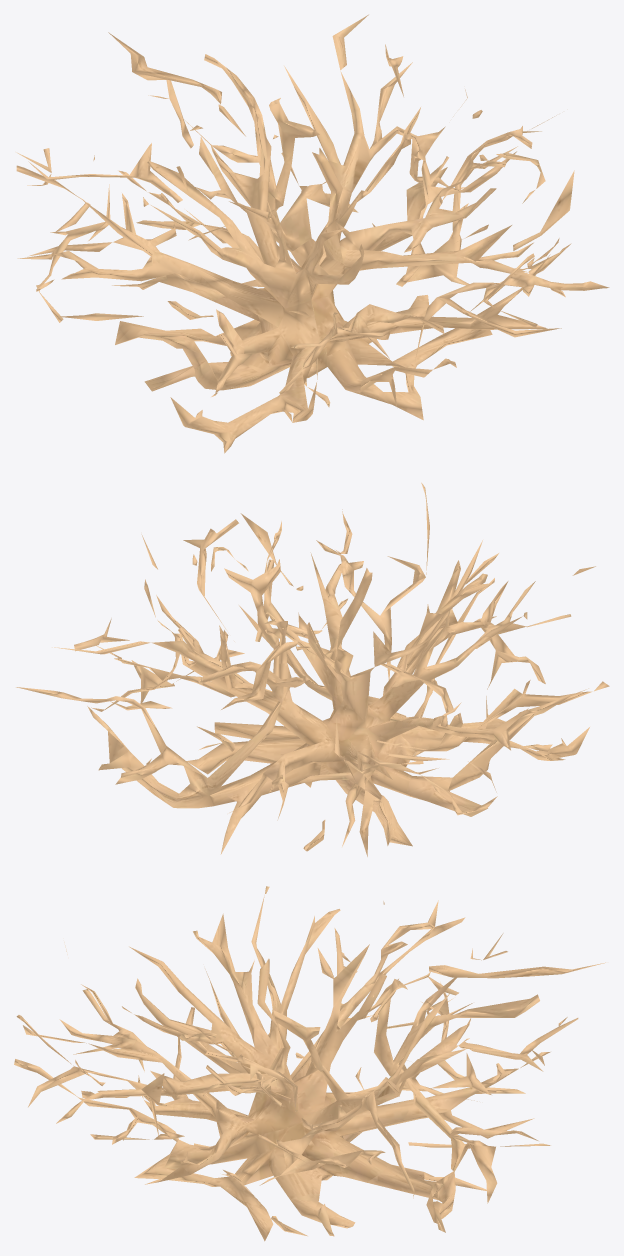
File: dead_scrub.glb
3 views of the same model, one above another, from view 1: azimuth 30°, elevation 25°; view 2: azimuth 150°, elevation 25°; view 3: azimuth 270°, elevation 25° (orthographic). The views are drawn at different scales.
Parts seen in each view (by area): view 1: 0; view 2: 0; view 3: 0.
Boxes of the visible parts, bbox=[...] form: 0: bbox=[16, 14, 609, 453]; 0: bbox=[16, 482, 609, 856]; 0: bbox=[14, 886, 605, 1241].
Bounding box in the file's own units: 1.69 × 0.7672 × 1.91.
Materials: 1 (1 with a texture image).
